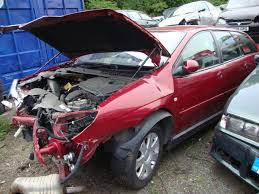bonnet-dent: (18, 8, 165, 67)
front-bumper-dent: (11, 115, 81, 152), (134, 73, 184, 119)
